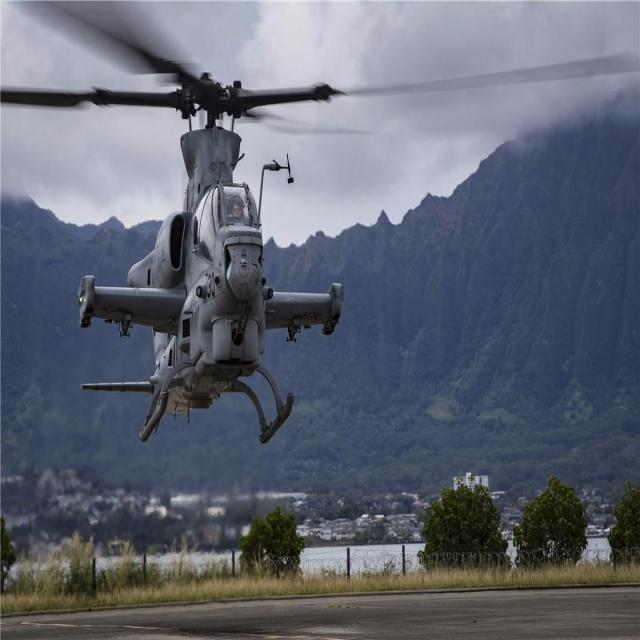MIL_HELO: (4, 16, 640, 455)
